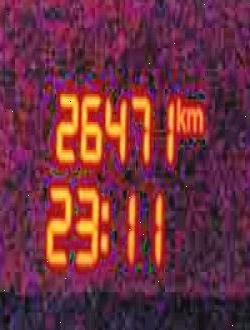1: (126, 188, 138, 264), (151, 193, 163, 266), (165, 96, 174, 162)
2: (44, 180, 70, 266), (53, 86, 78, 165)
3: (74, 180, 97, 266)
4: (102, 94, 126, 160)
6: (80, 89, 101, 162)
7: (131, 94, 151, 162)
X: (98, 190, 111, 256), (186, 101, 203, 134), (175, 94, 185, 134)
